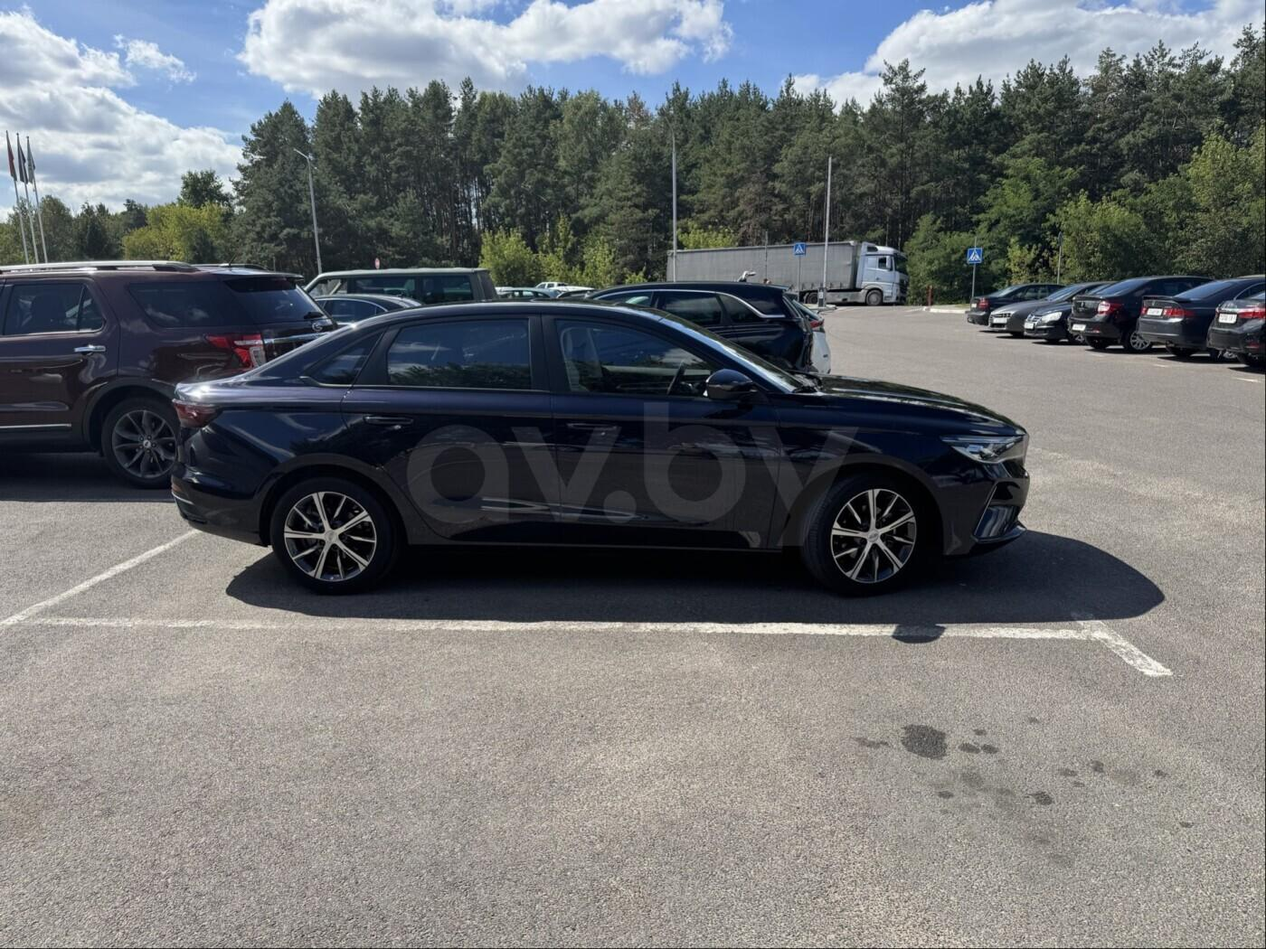Emgrand_2021: (171, 302, 1028, 595)
